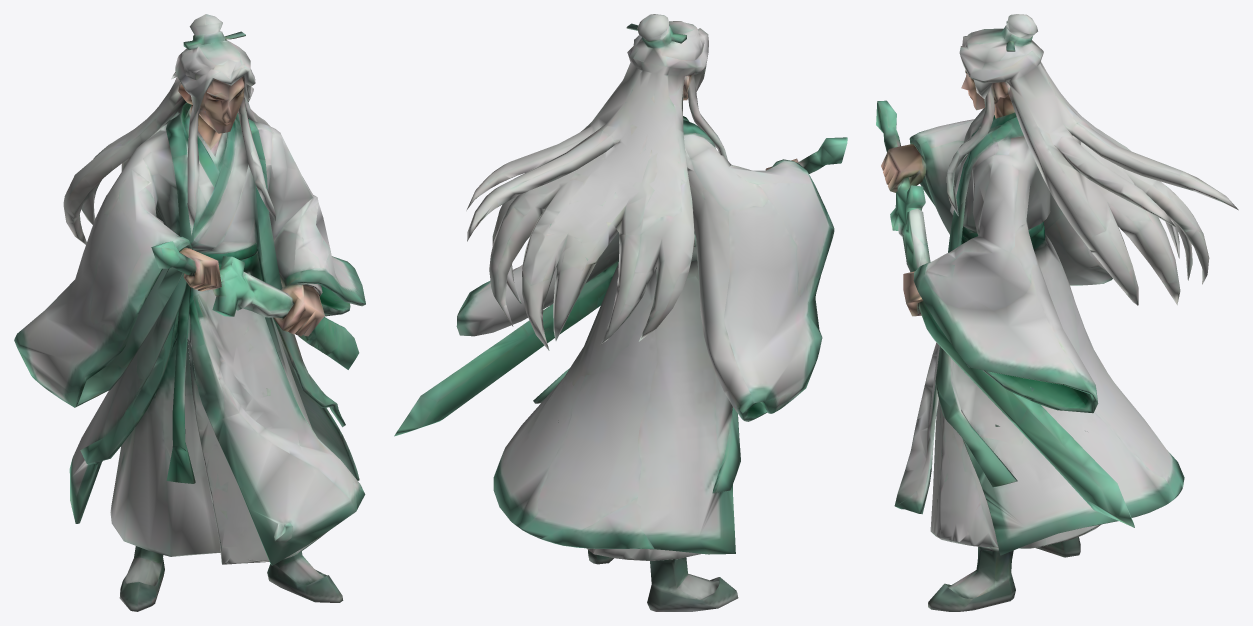
Rendered from hero_cultivator_lq.glb.
3 views of the same model, side by side, from view 1: azimuth 30°, elevation 25°; view 2: azimuth 150°, elevation 25°; view 3: azimuth 270°, elevation 25° (orthographic). The views are drawn at different scales.
Visible parts, largest first — view 1: node_0; view 2: node_0; view 3: node_0.
Part boxes in pixels (x1,y1,x2,y2): node_0: [14, 14, 365, 611]; node_0: [394, 14, 847, 611]; node_0: [876, 14, 1238, 611].
Bounding box in the file's own units: 0.7045 × 1.08 × 0.6466.
1 material, 1 textured.
